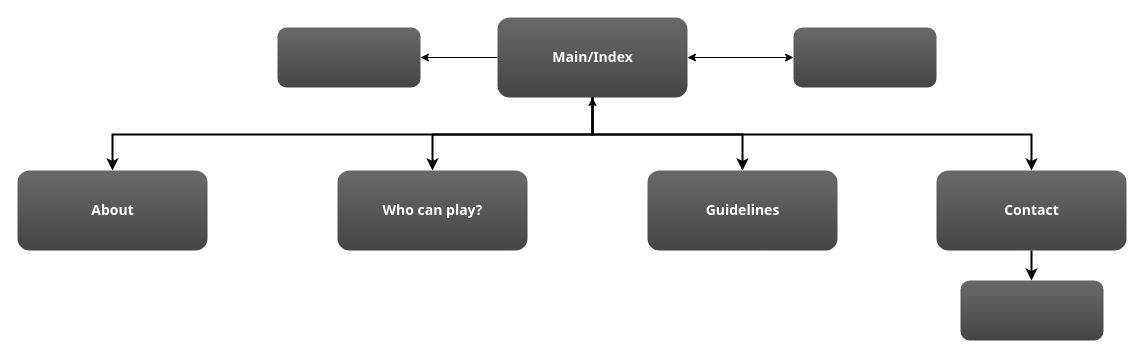
Image size: 1143x357. Some labels were removed from this diagram. The box of each missing label's shape, as (x1, y1, x2, y2) in pixels:
Announcements: (277, 27, 420, 87)
Links: (960, 280, 1103, 340)
Sign Up: (793, 27, 936, 87)
